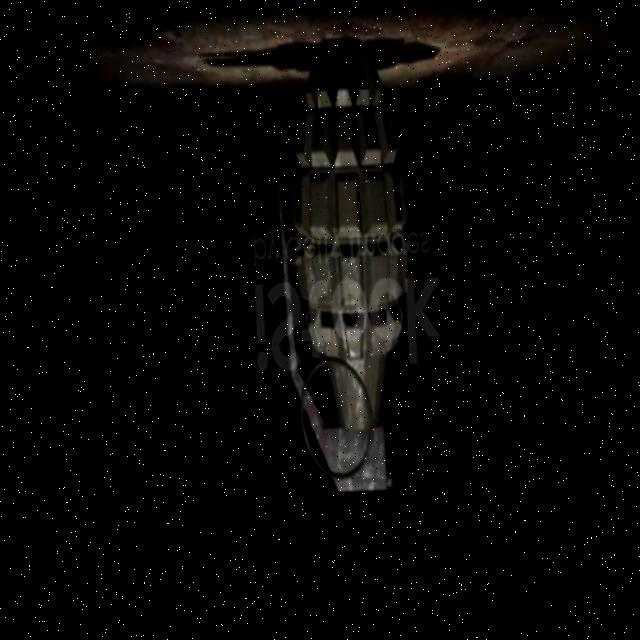grenade: (257, 31, 431, 519)
